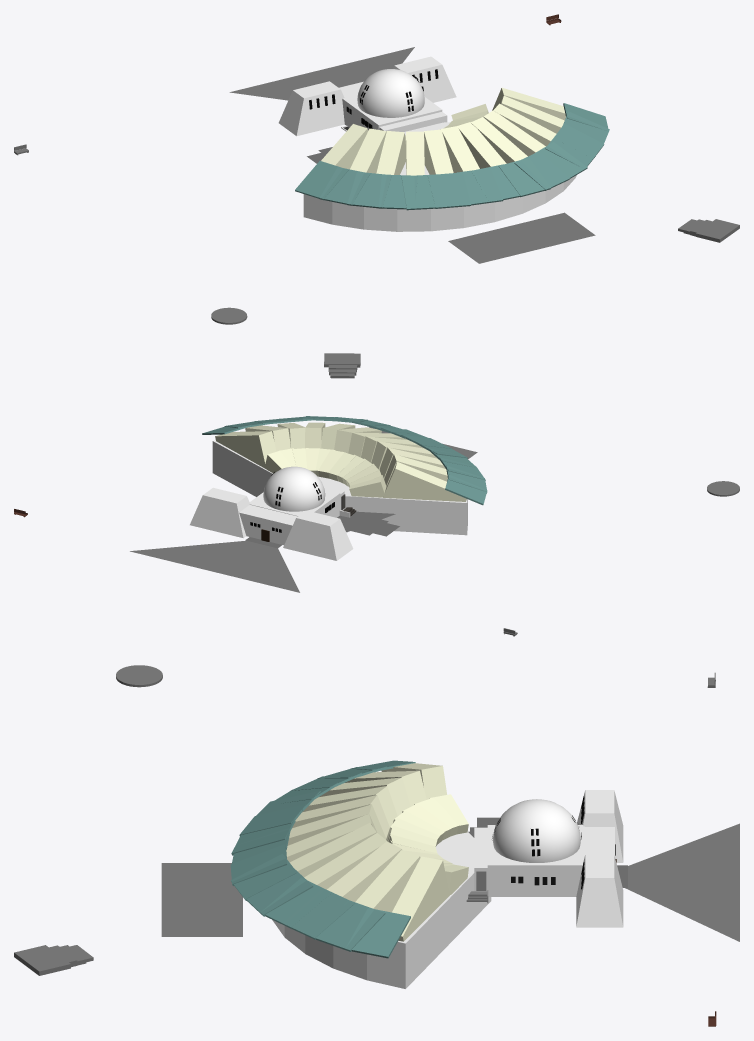
File: asmundarsafn_cpy_to_test_21.obj
The picture shows the model from 3 angles, top to bottom: view 1: azimuth 30°, elevation 25°; view 2: azimuth 150°, elevation 25°; view 3: azimuth 270°, elevation 25°; orthographic projection. The views are drawn at different scales.
Visible parts, largest first — view 1: Cube.047, Cube.033, syningarsalur, Plane.035, pavement, Sphere, h_hlid, v_hlid, innanhus, Cube, Cube.019, Cylinder; view 2: Cube.033, syningarsalur, pavement, Cube.047, h_hlid, Sphere, v_hlid, adaldyr, Cube, innanhus, Plane.001; view 3: Cube.033, Cube.047, pavement, syningarsalur, Plane.035, Sphere, innanhus, v_hlid, h_hlid, Cube, adaldyr, Cylinder (+1 smaller).
Boxes of the visible parts, bbox=[...] form: Cube.047: bbox=[295, 103, 609, 210]; Cube.033: bbox=[321, 87, 565, 175]; syningarsalur: bbox=[303, 122, 576, 231]; Plane.035: bbox=[448, 212, 595, 263]; pavement: bbox=[229, 47, 414, 100]; Sphere: bbox=[357, 69, 424, 117]; h_hlid: bbox=[278, 81, 344, 136]; v_hlid: bbox=[393, 56, 456, 102]; innanhus: bbox=[342, 94, 442, 130]; Cube: bbox=[678, 219, 739, 242]; Cube.019: bbox=[379, 112, 447, 131]; Cylinder: bbox=[211, 307, 247, 324]; Cube.033: bbox=[215, 422, 466, 501]; syningarsalur: bbox=[212, 440, 467, 535]; pavement: bbox=[130, 540, 299, 592]; Cube.047: bbox=[202, 416, 487, 505]; h_hlid: bbox=[283, 510, 353, 560]; Sphere: bbox=[263, 466, 325, 511]; v_hlid: bbox=[190, 487, 250, 538]; adaldyr: bbox=[239, 505, 297, 545]; Cube: bbox=[324, 353, 360, 378]; innanhus: bbox=[250, 489, 340, 517]; Plane.001: bbox=[337, 511, 395, 532]; Cube.033: bbox=[286, 763, 468, 941]; Cube.047: bbox=[230, 760, 415, 958]; pavement: bbox=[625, 823, 739, 941]; syningarsalur: bbox=[272, 831, 491, 988]; Plane.035: bbox=[161, 863, 242, 936]; Sphere: bbox=[493, 799, 580, 862]; innanhus: bbox=[487, 825, 584, 896]; v_hlid: bbox=[576, 854, 623, 927]; h_hlid: bbox=[577, 790, 623, 862]; Cube: bbox=[14, 945, 93, 975]; adaldyr: bbox=[584, 827, 614, 856]; Cylinder: bbox=[116, 665, 162, 687].
Bounding box in the file's own units: 72.47 × 9.13 × 61.73.
